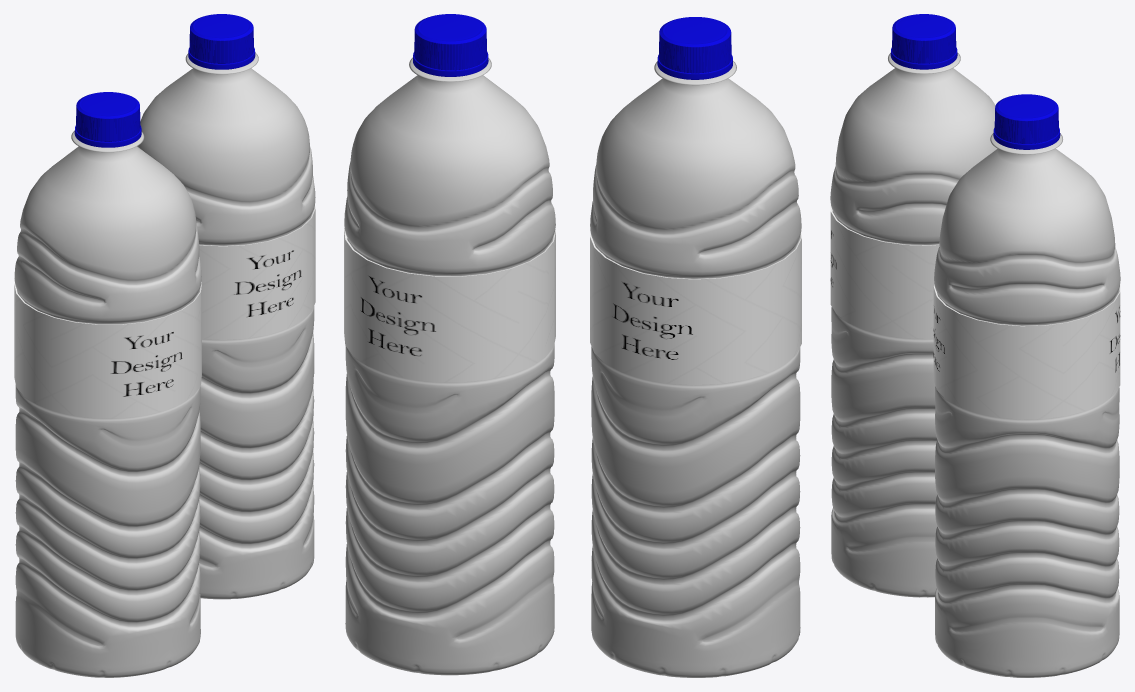
Rendered from Plastic Bottle A-1.glb.
3 views of the same model, side by side, from view 1: azimuth 30°, elevation 25°; view 2: azimuth 150°, elevation 25°; view 3: azimuth 270°, elevation 25° (orthographic). The views are drawn at different scales.
Visible parts, largest first — view 1: Circle, Circle.002, Poster_Poster_0, Poster_Poster_0.001, Circle.012, Circle.001; view 2: Circle.002, Circle, Poster_Poster_0.001, Poster_Poster_0, Circle.001, Circle.012; view 3: Circle.002, Circle, Poster_Poster_0.001, Poster_Poster_0, Circle.001, Circle.012.
Part boxes in pixels (<box>): Circle: <box>14,131,201,677</box>; Circle.002: <box>137,52,315,599</box>; Poster_Poster_0: <box>14,282,201,418</box>; Poster_Poster_0.001: <box>199,206,315,339</box>; Circle.012: <box>74,92,141,147</box>; Circle.001: <box>188,14,255,69</box>; Circle.002: <box>344,57,555,675</box>; Circle: <box>590,61,801,677</box>; Poster_Poster_0.001: <box>344,228,555,382</box>; Poster_Poster_0: <box>590,232,801,385</box>; Circle.001: <box>413,14,488,76</box>; Circle.012: <box>657,17,732,79</box>; Circle.002: <box>934,133,1120,677</box>; Circle: <box>830,52,997,597</box>; Poster_Poster_0.001: <box>933,284,1120,419</box>; Poster_Poster_0: <box>830,203,939,338</box>; Circle.001: <box>993,94,1060,149</box>; Circle.012: <box>890,14,957,69</box>.
Size of the model in its own units: 2.03 by 3.18 by 1.56.
4 materials, 1 textured.
